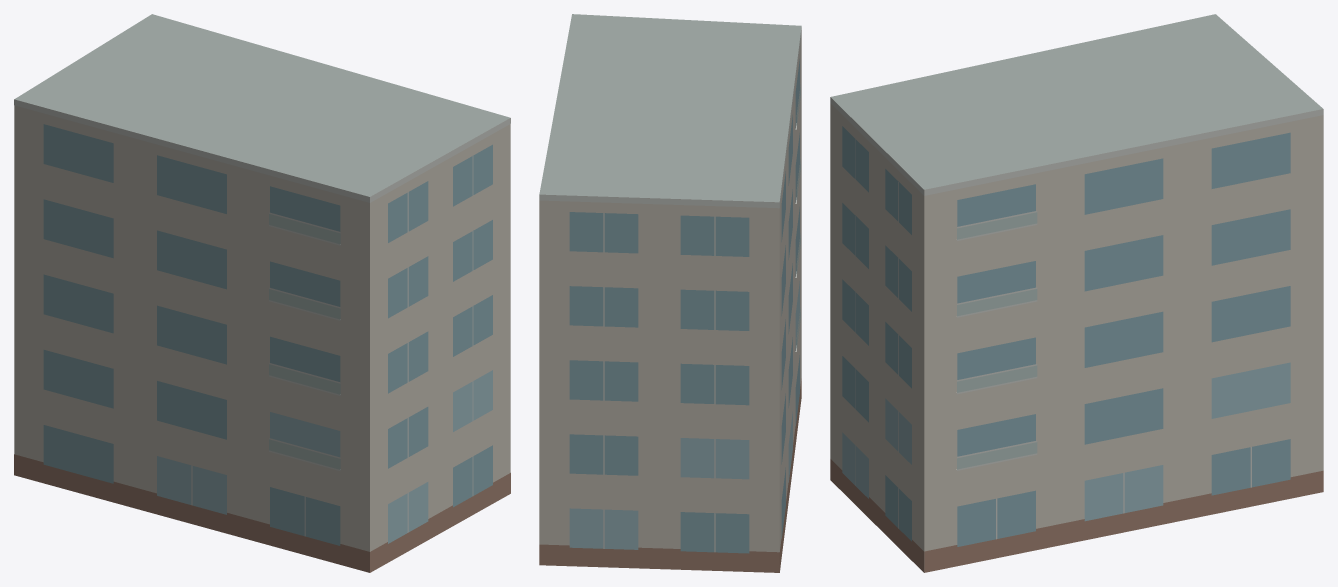
The model's file is survey-upis-32590891.glb.
3 views of the same model, side by side, from view 1: azimuth 30°, elevation 25°; view 2: azimuth 150°, elevation 25°; view 3: azimuth 270°, elevation 25° (orthographic). The views are drawn at different scales.
Visible parts, largest first — view 1: survey-upis-32590891.tmp; view 2: survey-upis-32590891.tmp; view 3: survey-upis-32590891.tmp.
Boxes of the visible parts, box(x1,y1,x2,y2) form: survey-upis-32590891.tmp: box(14, 14, 510, 572); survey-upis-32590891.tmp: box(539, 14, 801, 572); survey-upis-32590891.tmp: box(830, 14, 1323, 572).
Size of the model in its own units: 15.02 by 15.25 by 17.8.
